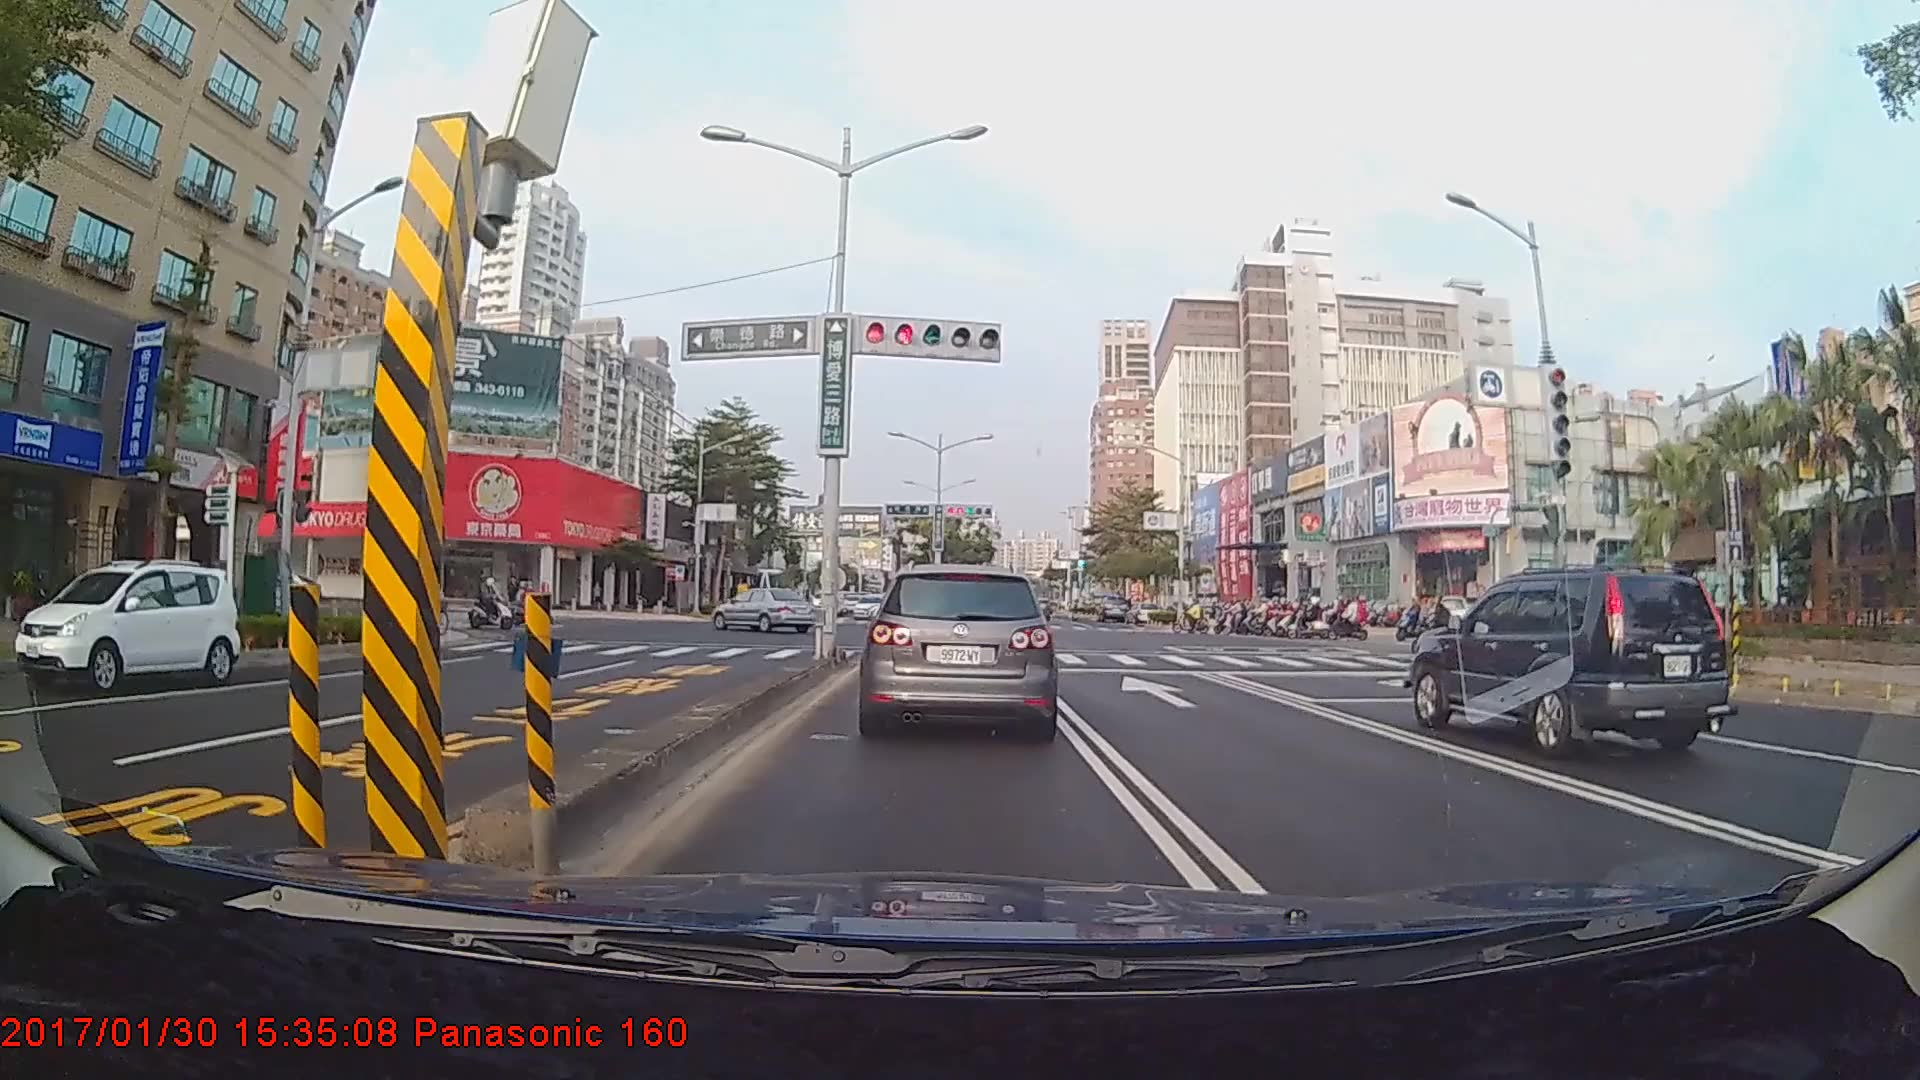rider: (466, 574, 517, 633)
vehicle: (1406, 569, 1736, 762), (864, 560, 1059, 736), (26, 560, 240, 691), (709, 584, 827, 633), (1098, 595, 1130, 623)
